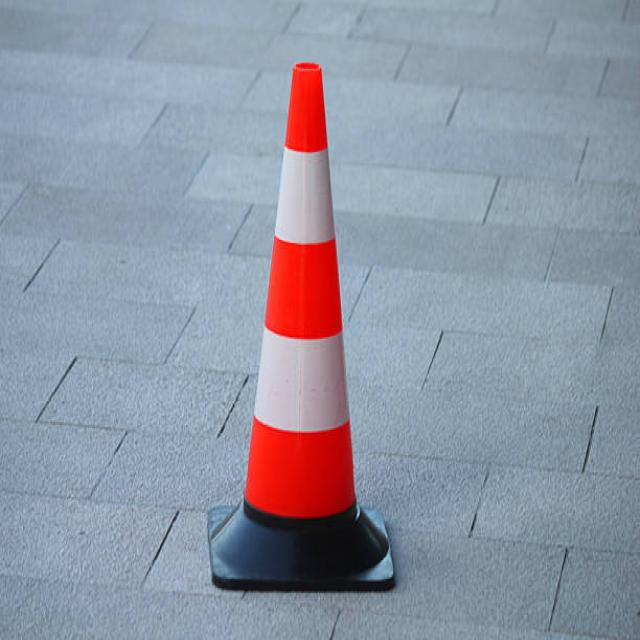Traffic Cone: (189, 28, 423, 634)
